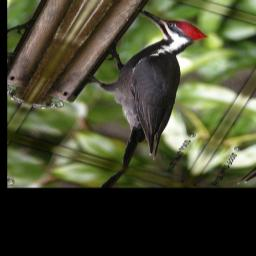Woodpecker: (45, 6, 235, 175)
